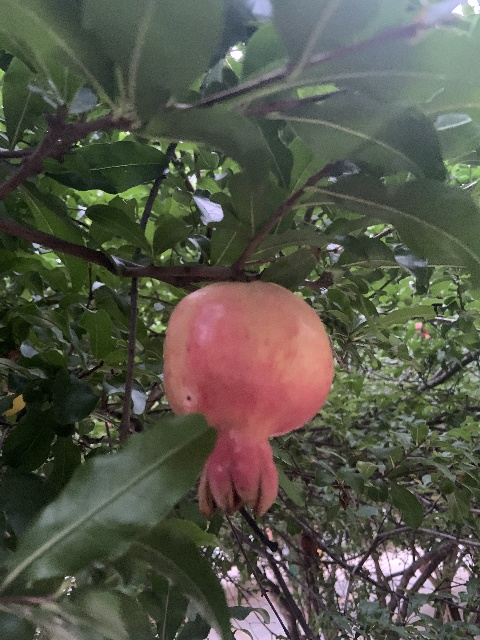ripe: (162, 280, 335, 517)
